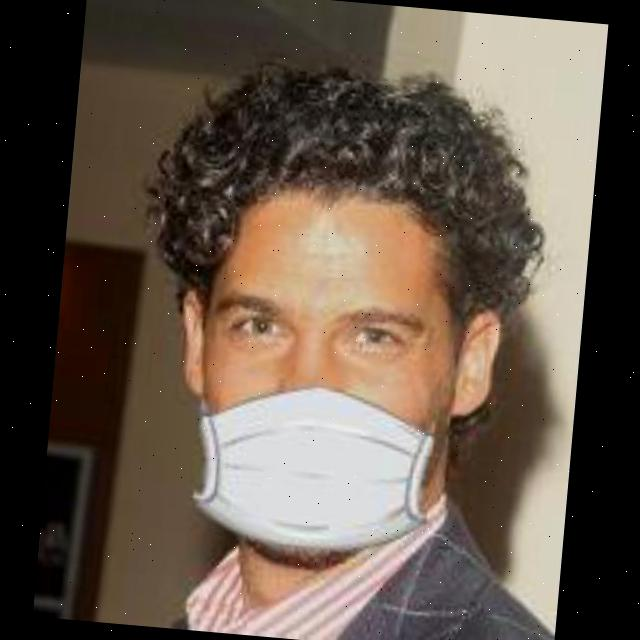suspicion: (140, 133, 596, 576)
